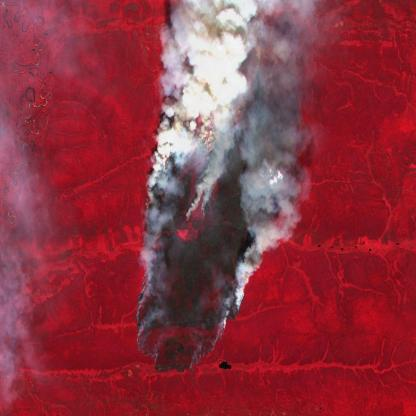fire: (132, 78, 288, 373)
